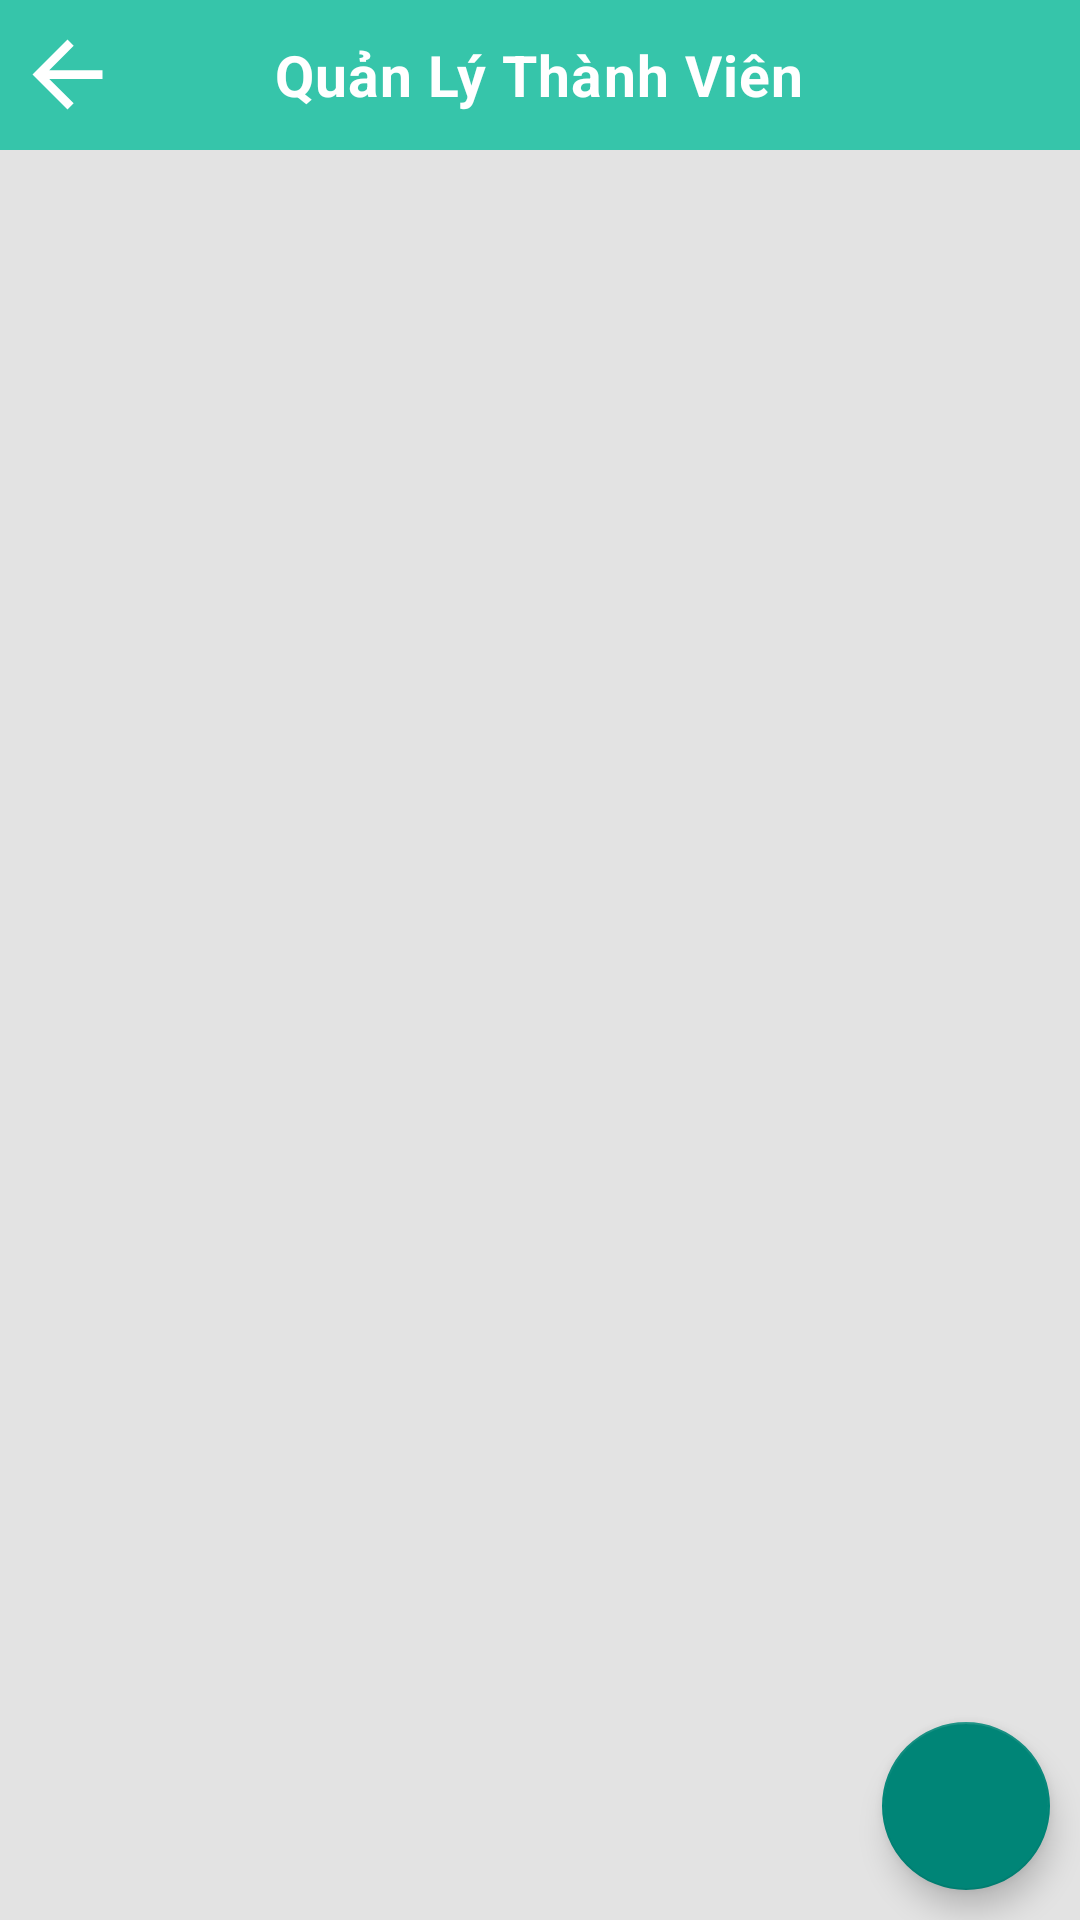

Icons on this 1080px×1920px Android screen, each with the point to tap as point (x, y):
back: point (67, 74)
